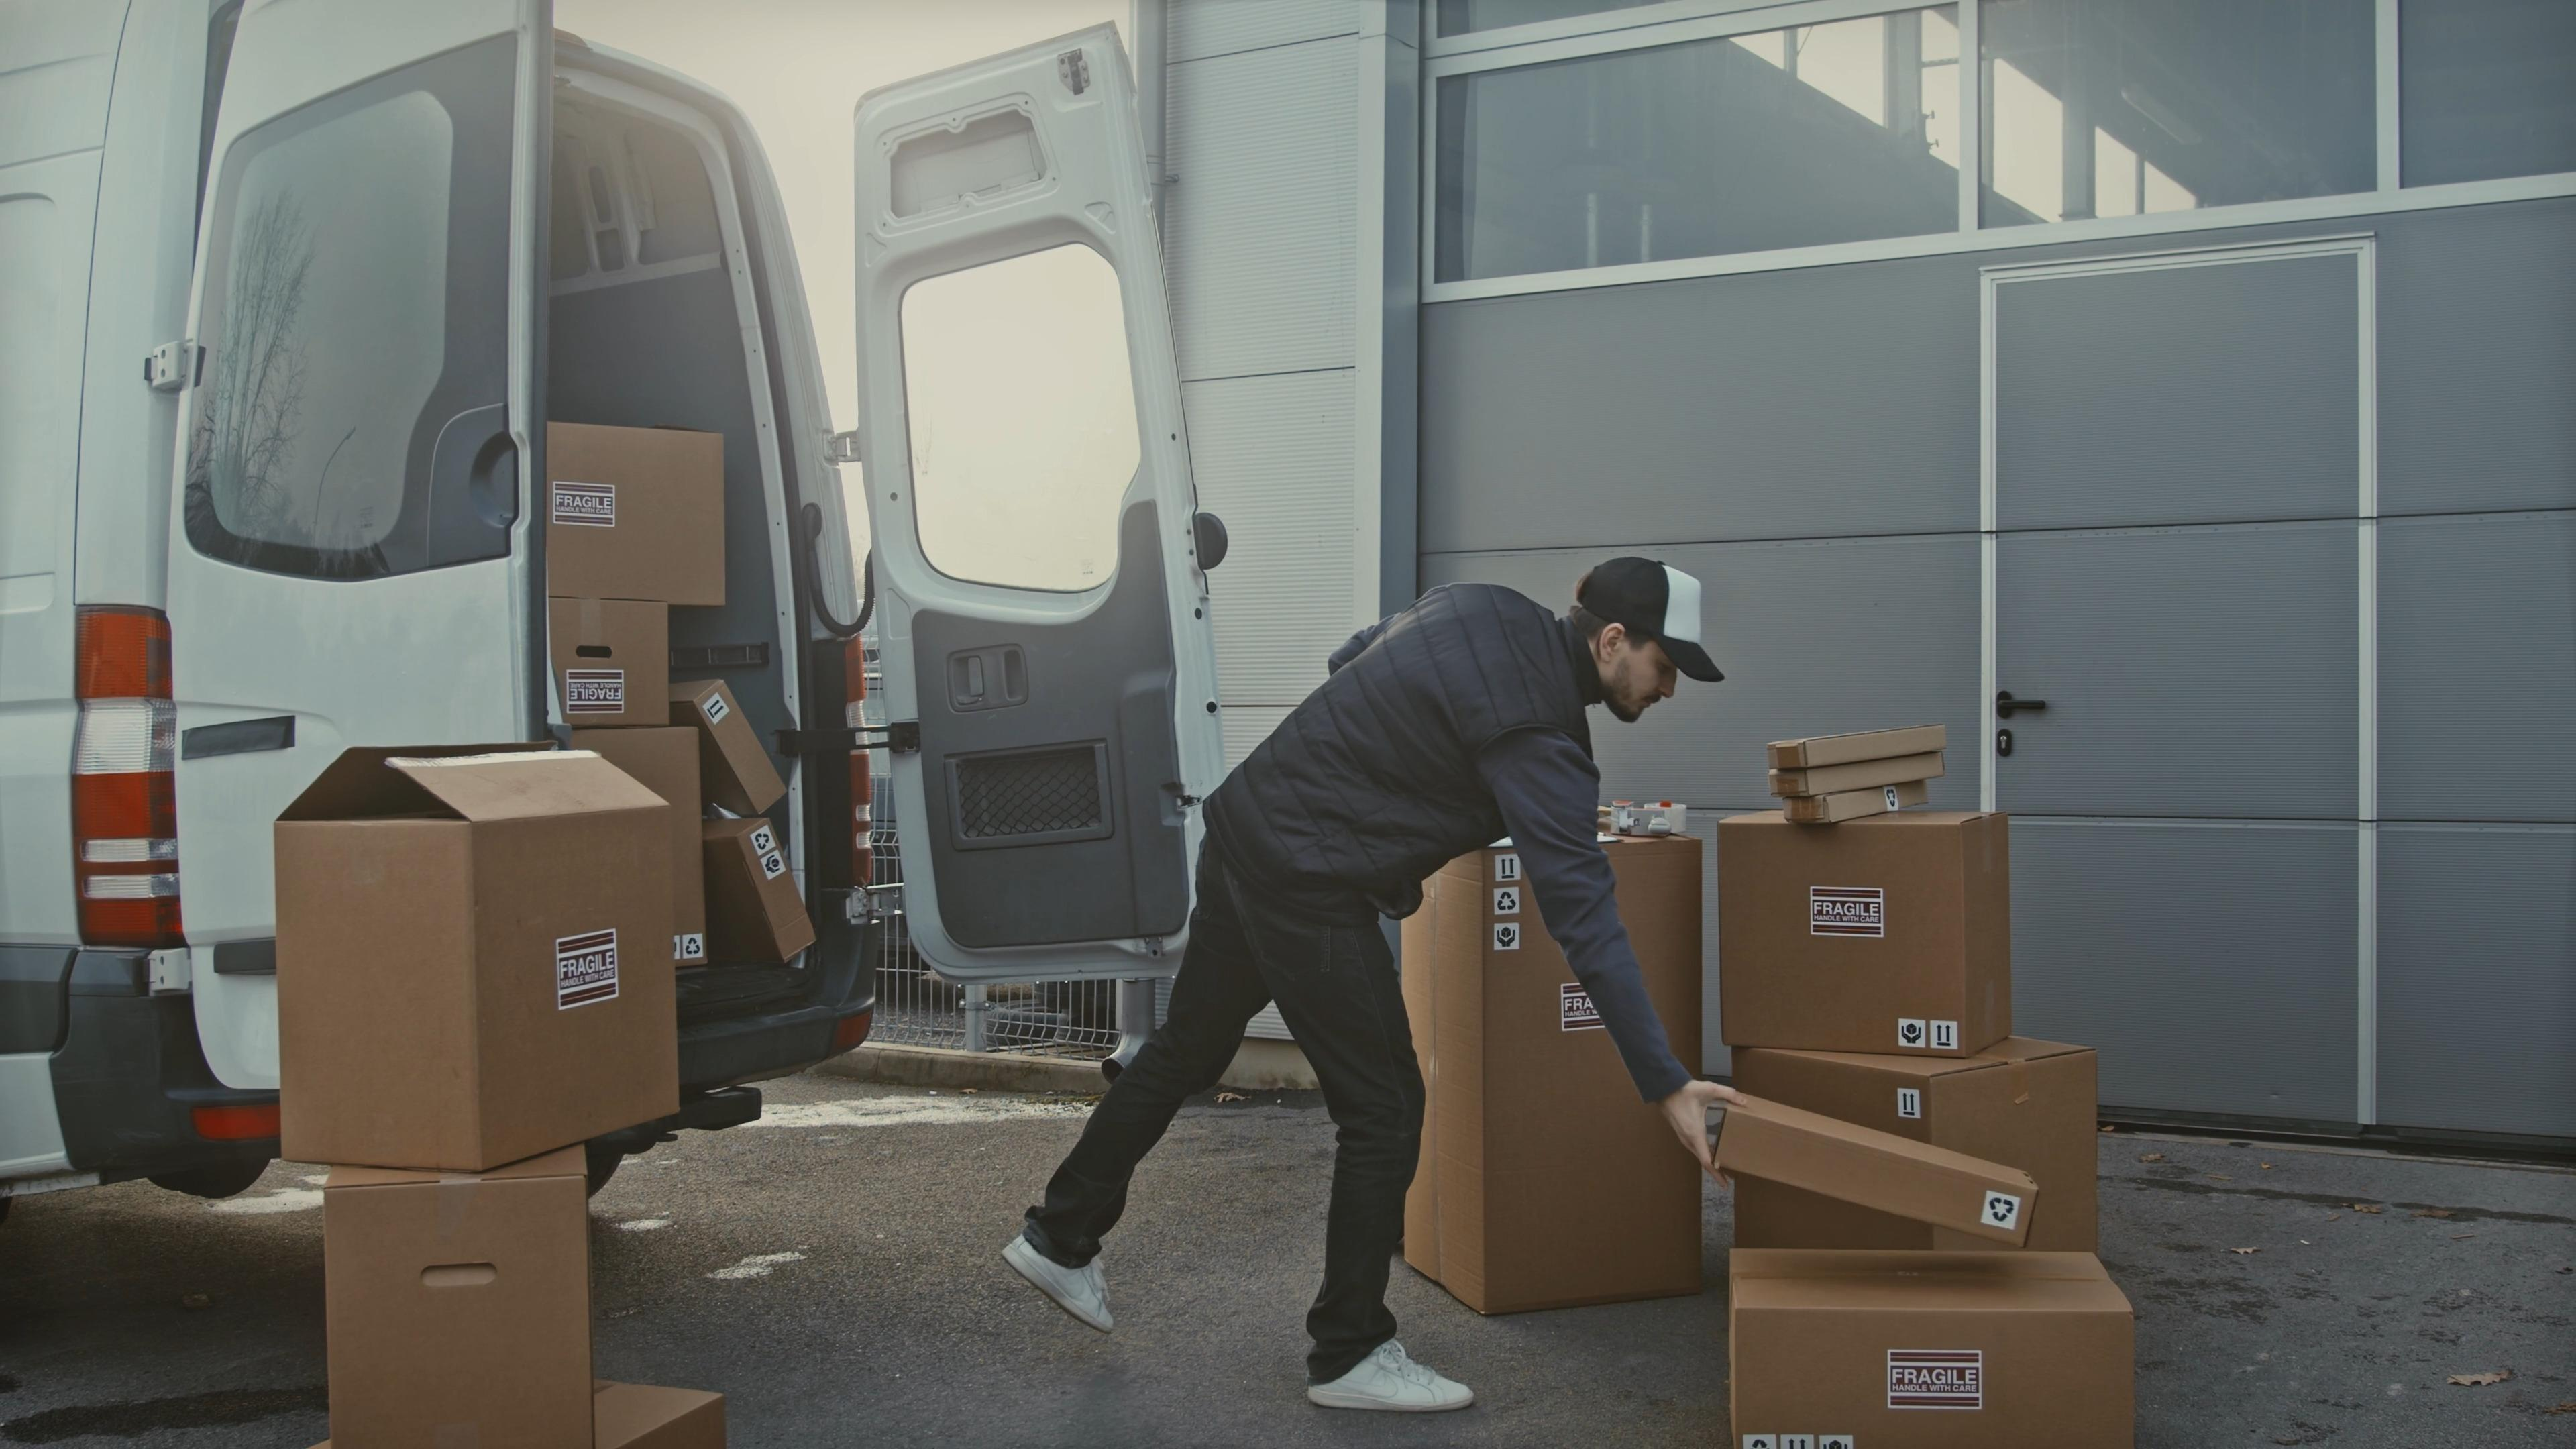-: (276, 745, 676, 1159), (1392, 830, 1695, 1313), (317, 1161, 594, 1449), (1729, 1254, 2127, 1449), (1718, 801, 2008, 1058), (1736, 1054, 2095, 1256), (1698, 1067, 2042, 1251), (541, 419, 729, 602), (545, 602, 662, 725)
